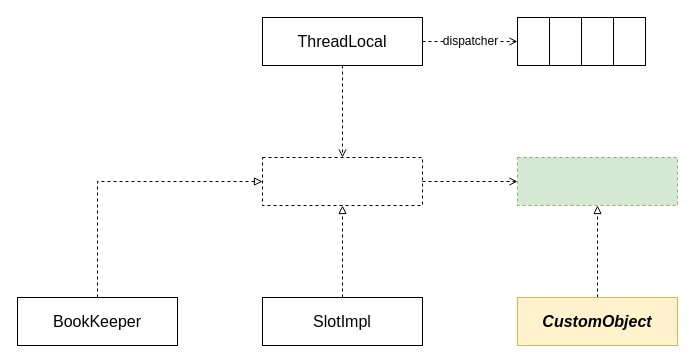
Some shapes in this 695 by 363 pixel diagram are drawn without their labels. The shapes that lost their labels are listed below. From the top down, each one's centre as x and y in pixels, then its label:
At pixel 342 181: "Slot".
At pixel 597 181: "ThreadLocalObject".
